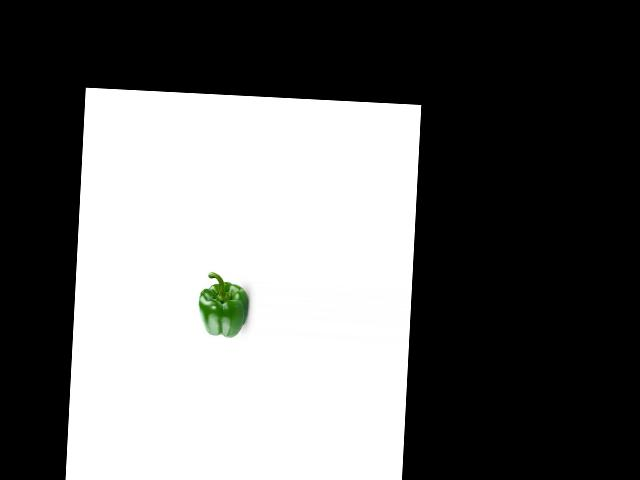bell_pepper: (196, 270, 248, 340)
